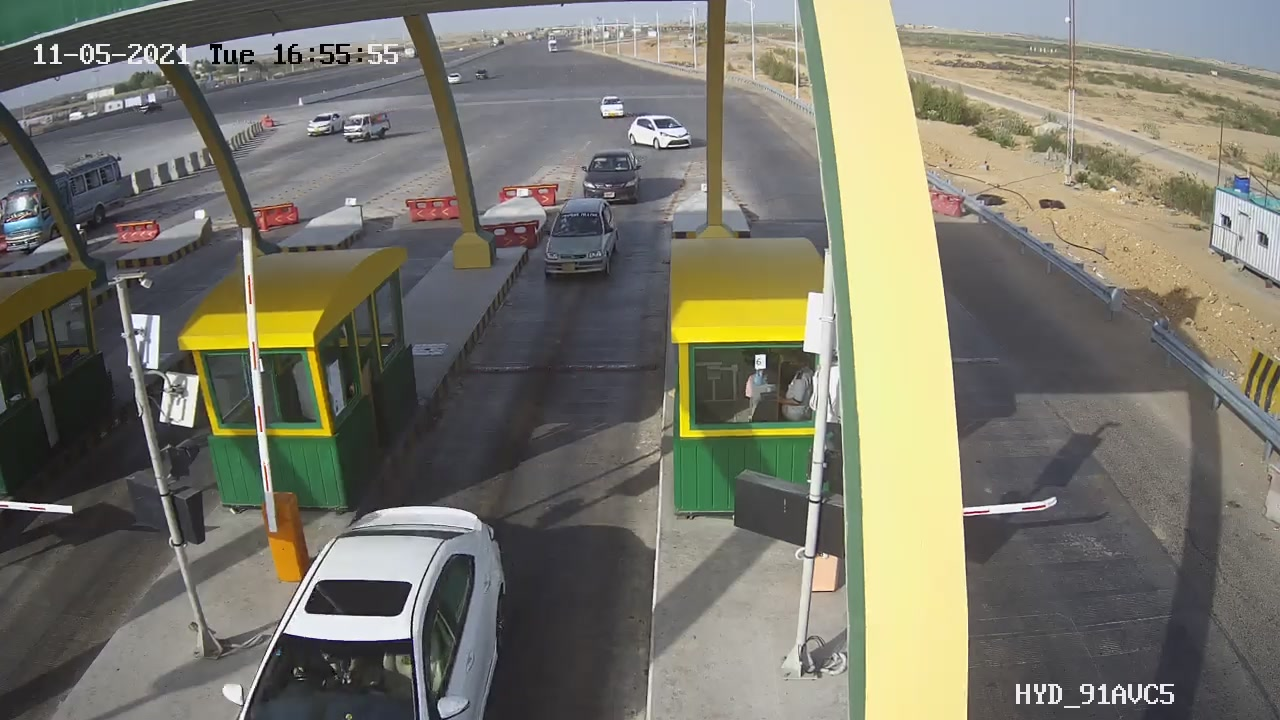F1: (520, 186, 636, 294)
